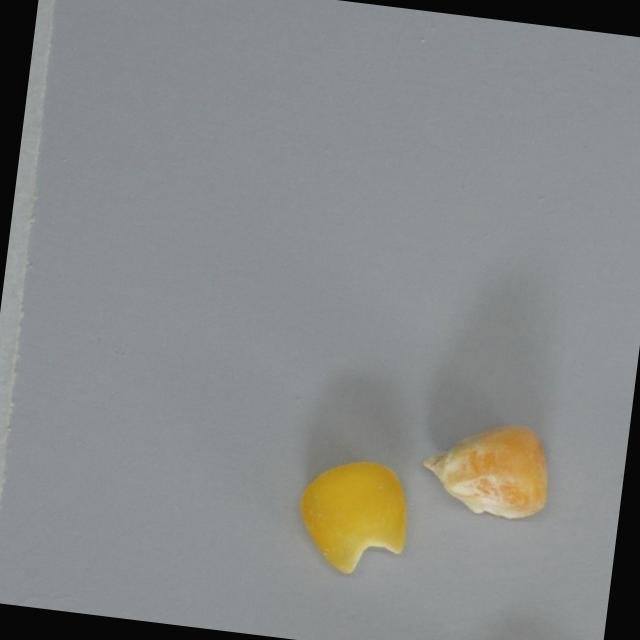dañado: (287, 450, 415, 584), (413, 411, 557, 529)
